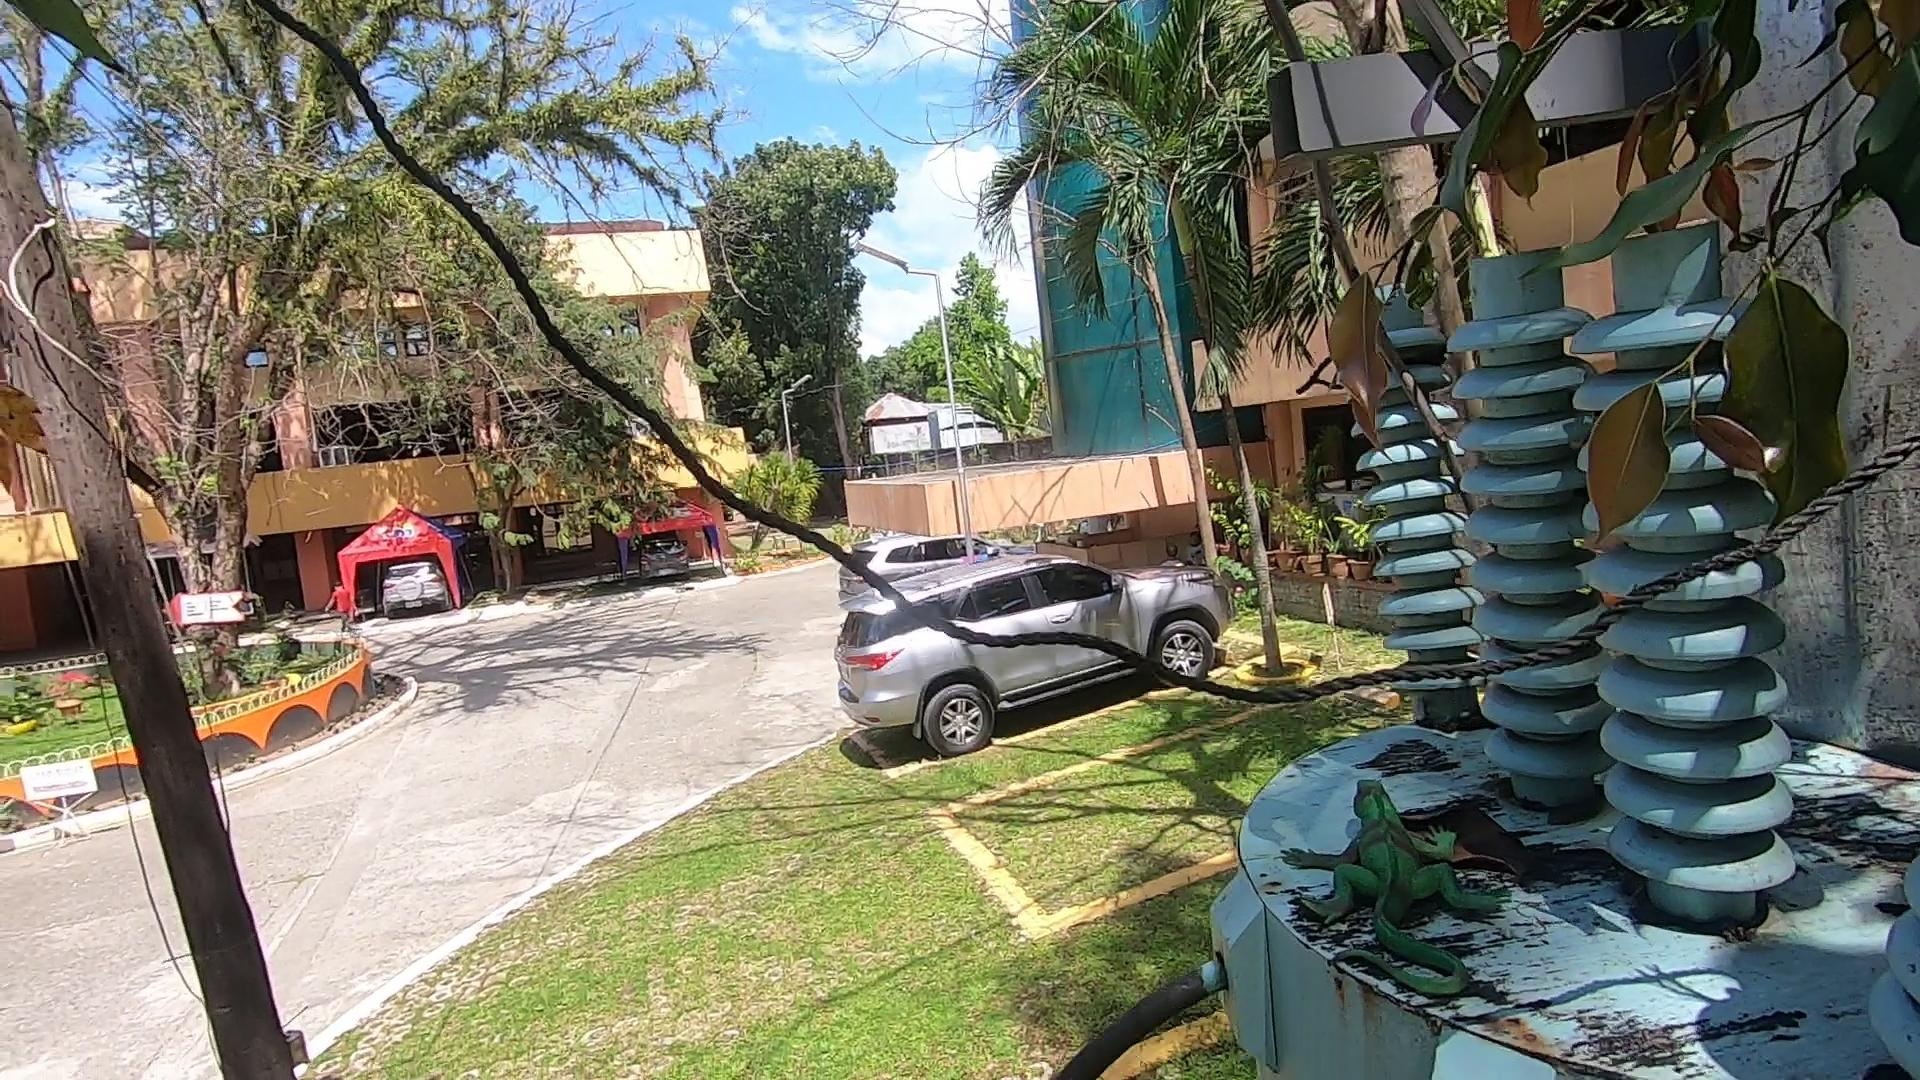tree branch: (1375, 18, 1879, 571), (1201, 9, 1486, 512)
